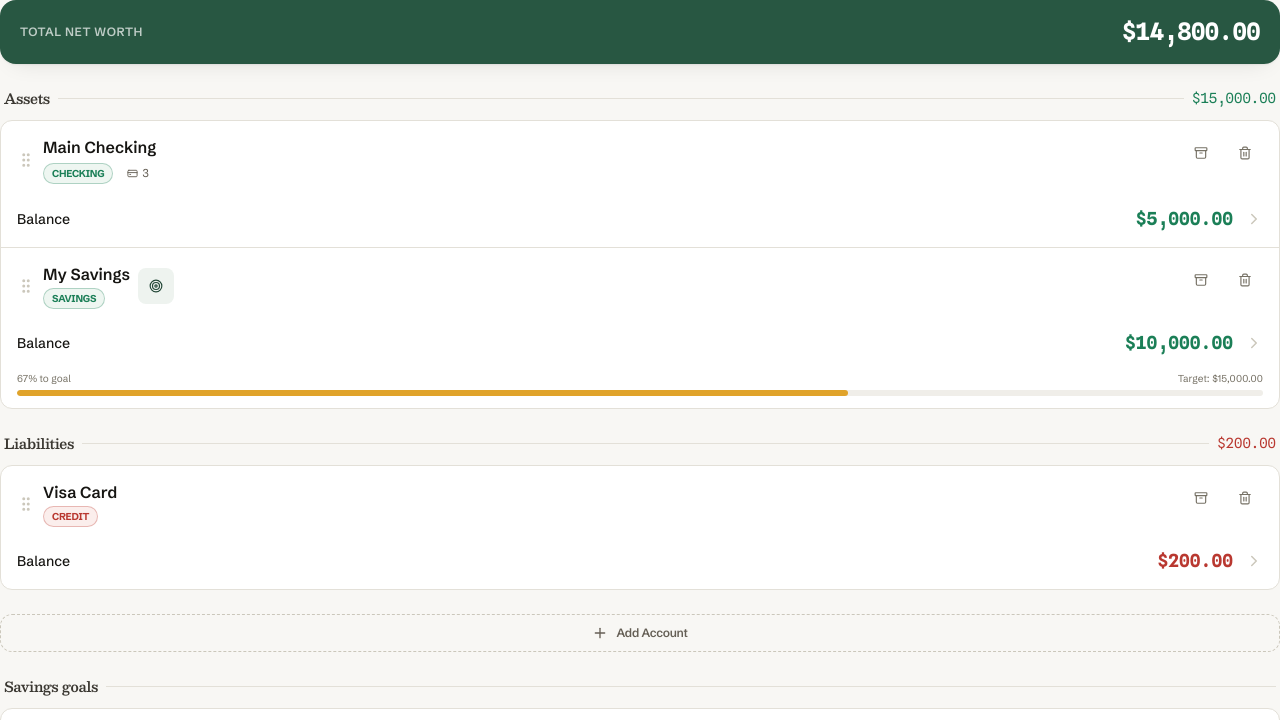
BudgetAccounts › collapses multiple last-4s into one control that opens a popover listing them
The width and height of the screenshot is (1280, 720).
Expected: the text "···2115" is not shown
Click the button named "Show 3 card and account numbers for Main Checking": [138, 174] box x1=121 y1=163 x2=155 y2=184
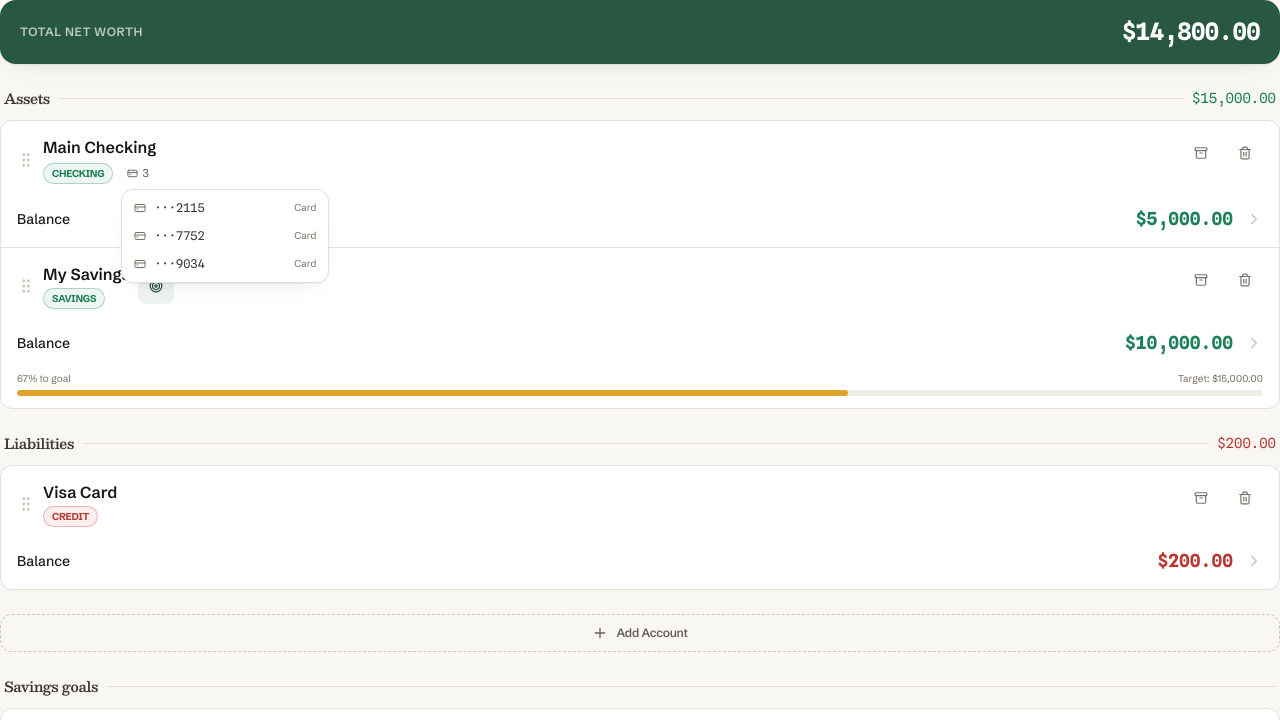
Now the text "···2115" is shown, box x1=154 y1=200 x2=205 y2=216
Now the text "···7752" is shown, box x1=154 y1=228 x2=205 y2=244
Now the text "···9034" is shown, box x1=154 y1=256 x2=205 y2=272
